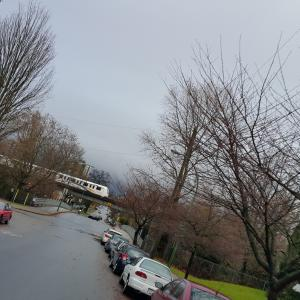Vehicle-registration-plate: (148, 290, 155, 296)
